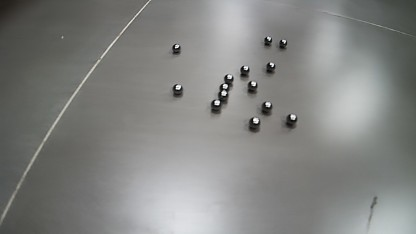ironball: (248, 116, 260, 129), (261, 101, 273, 113), (286, 113, 297, 125), (210, 99, 221, 110), (247, 80, 258, 91), (172, 83, 182, 95), (218, 89, 228, 101), (224, 74, 234, 84), (240, 65, 249, 75), (266, 62, 275, 72), (219, 82, 229, 91), (172, 43, 180, 52), (279, 39, 287, 48), (264, 36, 272, 45)
